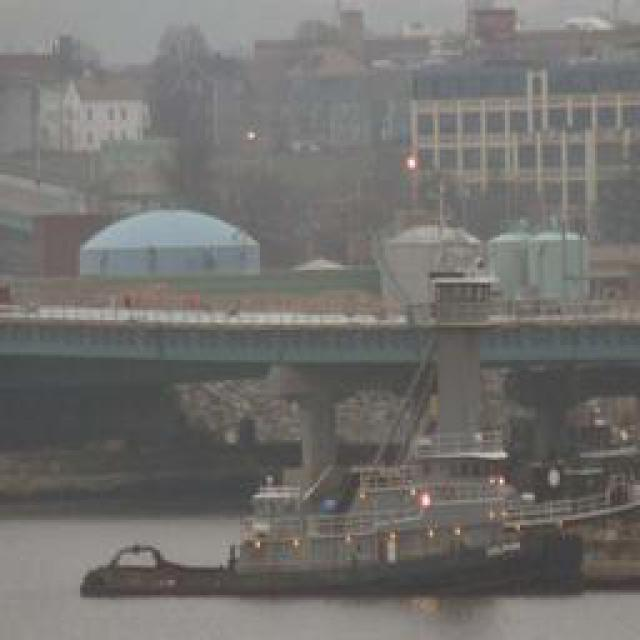Ship: (68, 423, 597, 609)
